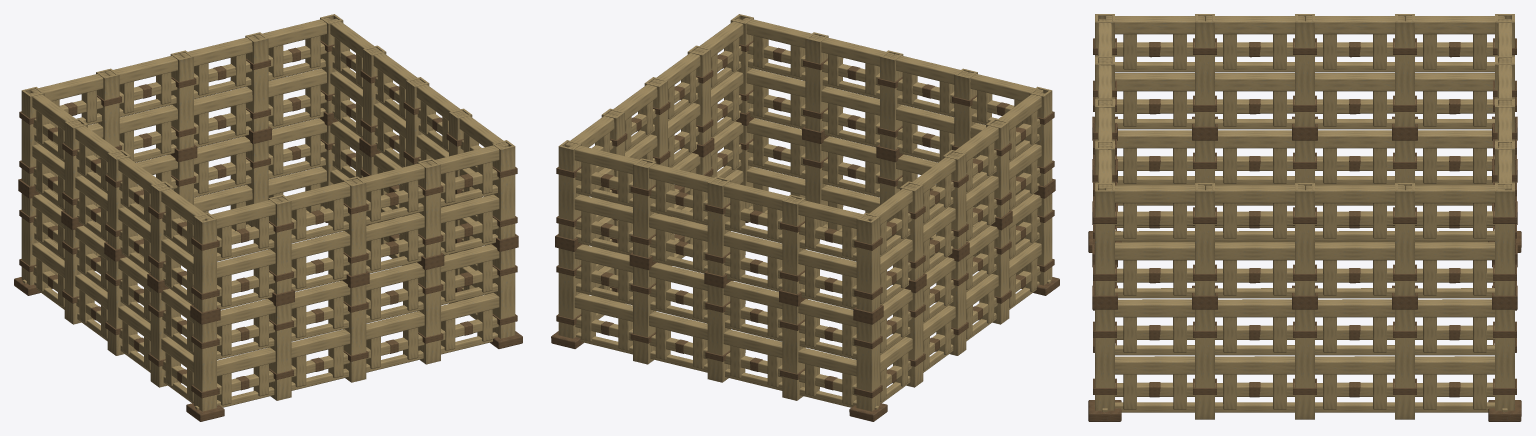
3 renders of one model, left to right at view 1: azimuth 30°, elevation 25°; view 2: azimuth 150°, elevation 25°; view 3: azimuth 270°, elevation 25°, orthographic. The views are drawn at different scales.
Visible parts, largest first — view 1: Tier 1 side 0 post 0, Tier 0 side 0 post 0, Tier 0 side 0 post 2, Tier 1 side 0 post 2, Tier 1 side 1 post 0, Tier 1 side 0 post 1, Tier 0 side 0 post 1, Tier 1 side 2 post 1, Tier 0 side 0 post 3, Tier 1 side 0 post 3, Tier 1 side 2 post 2, Tier 0 side 1 post 0 (+68 smaller); view 2: Tier 1 side 3 post 0, Tier 0 side 3 post 0, Tier 0 side 2 post 2, Tier 1 side 2 post 2, Tier 1 side 2 post 0, Tier 0 side 2 post 3, Tier 1 side 2 post 3, Tier 1 side 0 post 3, Tier 0 side 2 post 1, Tier 1 side 2 post 1, Tier 1 side 0 post 2, Tier 0 side 2 post 0 (+67 smaller); view 3: Tier 0 side 1 post 1, Tier 0 side 1 post 2, Tier 0 side 1 post 3, Tier 1 side 1 post 1, Tier 1 side 1 post 2, Tier 1 side 1 post 3, Tier 1 side 3 post 1, Tier 1 side 3 post 2, Tier 1 side 3 post 3, Tier 1 side 1 post 0, Tier 1 side 2 post 0, Tier 0 side 1 post 0 (+162 smaller).
Boxes of the visible parts, <box> form: Tier 1 side 0 post 0: <box>193,213,216,312</box>; Tier 0 side 0 post 0: <box>193,319,216,411</box>; Tier 0 side 0 post 2: <box>343,284,366,382</box>; Tier 1 side 0 post 2: <box>343,176,366,275</box>; Tier 1 side 1 post 0: <box>492,140,515,239</box>; Tier 1 side 0 post 1: <box>268,194,291,294</box>; Tier 0 side 0 post 1: <box>269,303,291,400</box>; Tier 1 side 2 post 1: <box>245,32,268,131</box>; Tier 0 side 0 post 3: <box>417,266,440,364</box>; Tier 1 side 0 post 3: <box>417,158,440,257</box>; Tier 1 side 2 post 2: <box>170,50,193,149</box>; Tier 0 side 1 post 0: <box>492,248,515,338</box>; Tier 1 side 3 post 0: <box>856,213,880,312</box>; Tier 0 side 3 post 0: <box>856,319,880,411</box>; Tier 0 side 2 post 2: <box>707,284,730,382</box>; Tier 1 side 2 post 2: <box>707,176,730,275</box>; Tier 1 side 2 post 0: <box>558,140,581,239</box>; Tier 0 side 2 post 3: <box>782,303,805,400</box>; Tier 1 side 2 post 3: <box>782,194,805,293</box>; Tier 1 side 0 post 3: <box>805,32,828,131</box>; Tier 0 side 2 post 1: <box>633,266,656,364</box>; Tier 1 side 2 post 1: <box>633,158,656,257</box>; Tier 1 side 0 post 2: <box>880,50,903,149</box>; Tier 0 side 2 post 0: <box>558,248,581,338</box>; Tier 0 side 1 post 1: <box>1195,309,1214,419</box>; Tier 0 side 1 post 2: <box>1295,309,1314,419</box>; Tier 0 side 1 post 3: <box>1395,309,1414,419</box>; Tier 1 side 1 post 1: <box>1195,183,1214,295</box>; Tier 1 side 1 post 2: <box>1295,183,1314,295</box>; Tier 1 side 1 post 3: <box>1395,183,1414,295</box>; Tier 1 side 3 post 1: <box>1395,14,1414,126</box>; Tier 1 side 3 post 2: <box>1295,14,1314,126</box>; Tier 1 side 3 post 3: <box>1195,14,1214,126</box>; Tier 1 side 1 post 0: <box>1095,183,1114,295</box>; Tier 1 side 2 post 0: <box>1495,183,1514,295</box>; Tier 0 side 1 post 0: <box>1095,309,1114,410</box>.
Bounding box in the file's own units: 1.95 × 1.13 × 1.95.
2 materials, 2 textured.
